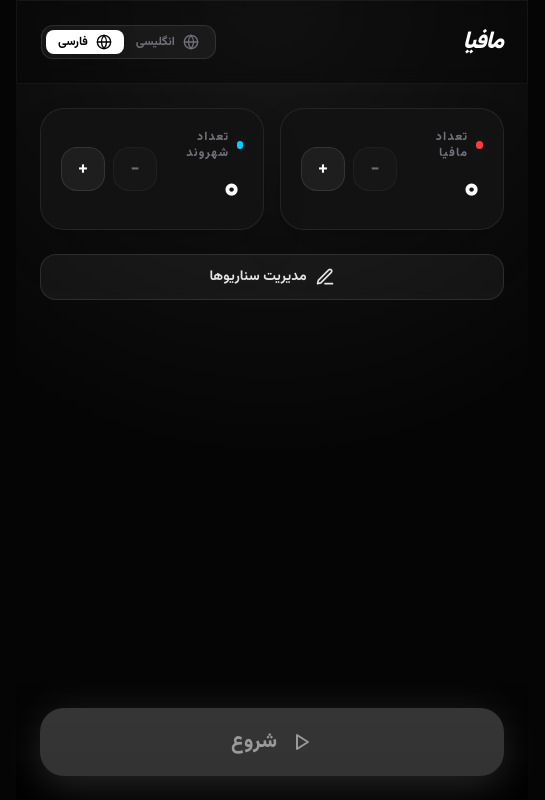
Test case: Setup Screen › increments mafia count when + is clicked
Click the button named "افزایش". click: (323, 169)
box: [301,147,345,191]
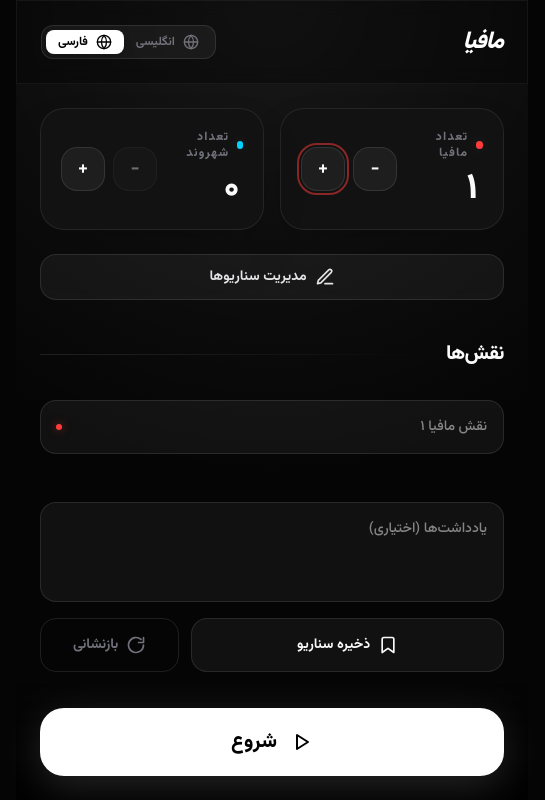
Expected: the text "۱" is shown, [459,161,483,217]
